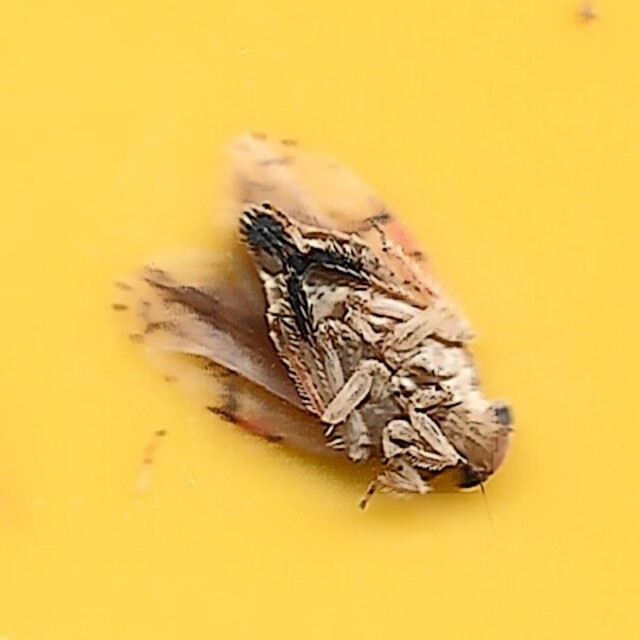Hemiptera: (118, 133, 522, 507)
